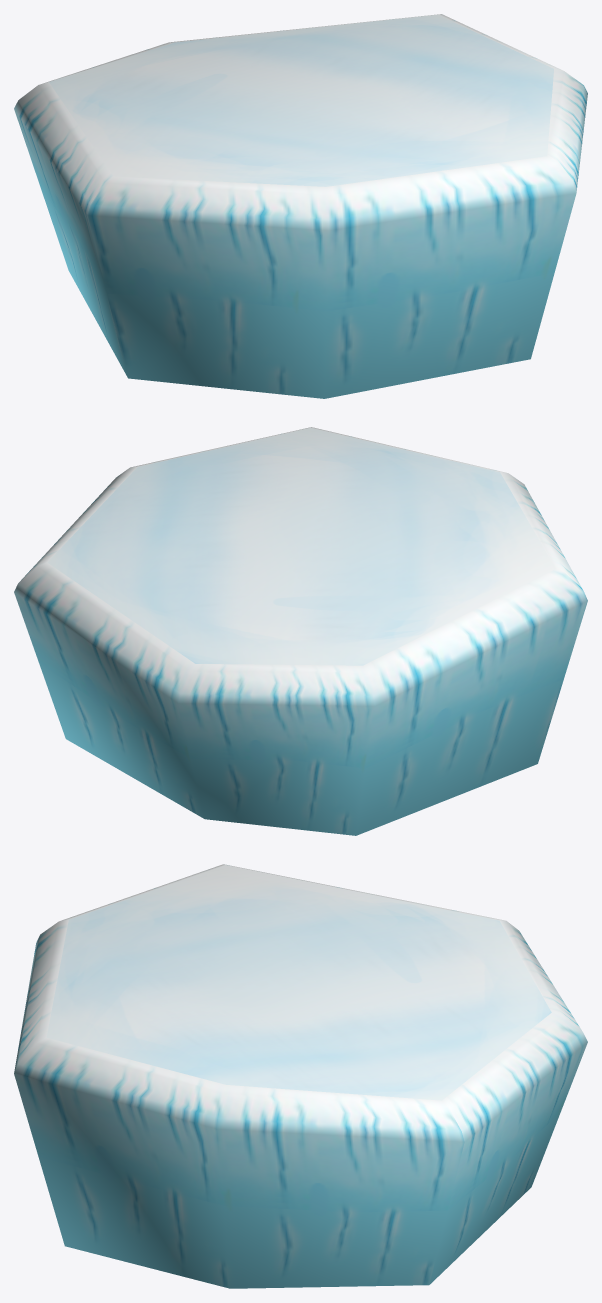
The model's file is Isoland01.FBX.
3 views of the same model, one above another, from view 1: azimuth 30°, elevation 25°; view 2: azimuth 150°, elevation 25°; view 3: azimuth 270°, elevation 25° (orthographic). The views are drawn at different scales.
Visible parts, largest first — view 1: Cylinder058; view 2: Cylinder058; view 3: Cylinder058.
Part boxes in pixels (bbox=[...]): Cylinder058: bbox=[14, 14, 587, 398]; Cylinder058: bbox=[14, 427, 587, 835]; Cylinder058: bbox=[14, 864, 587, 1288].
Size of the model in its own units: 747 by 314 by 726.
